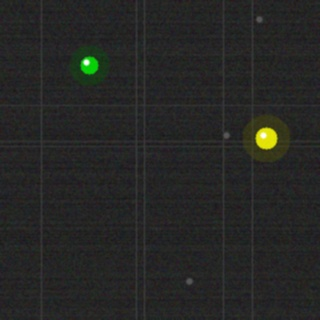green_normal: (78, 54, 100, 76)
yellow_warning: (253, 125, 279, 151)
